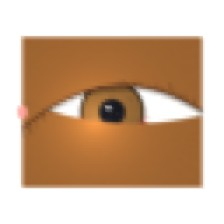hemorrhage_spot: (64, 86, 166, 168)
